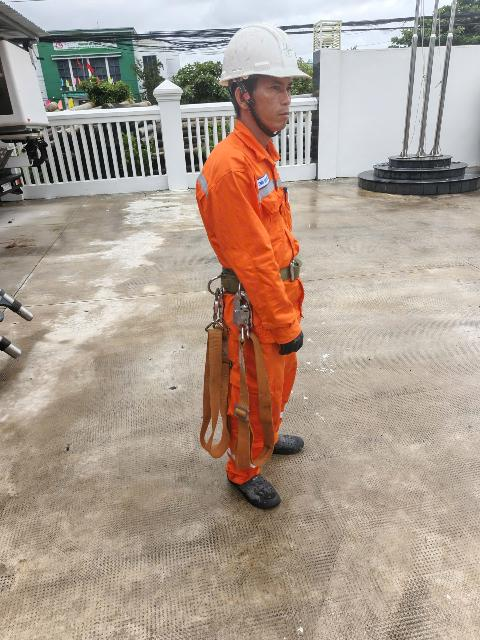gloves: (267, 325, 311, 366)
harness: (208, 253, 320, 293)
helmet: (204, 23, 317, 88)
shoes: (218, 460, 284, 512), (249, 419, 319, 461)
